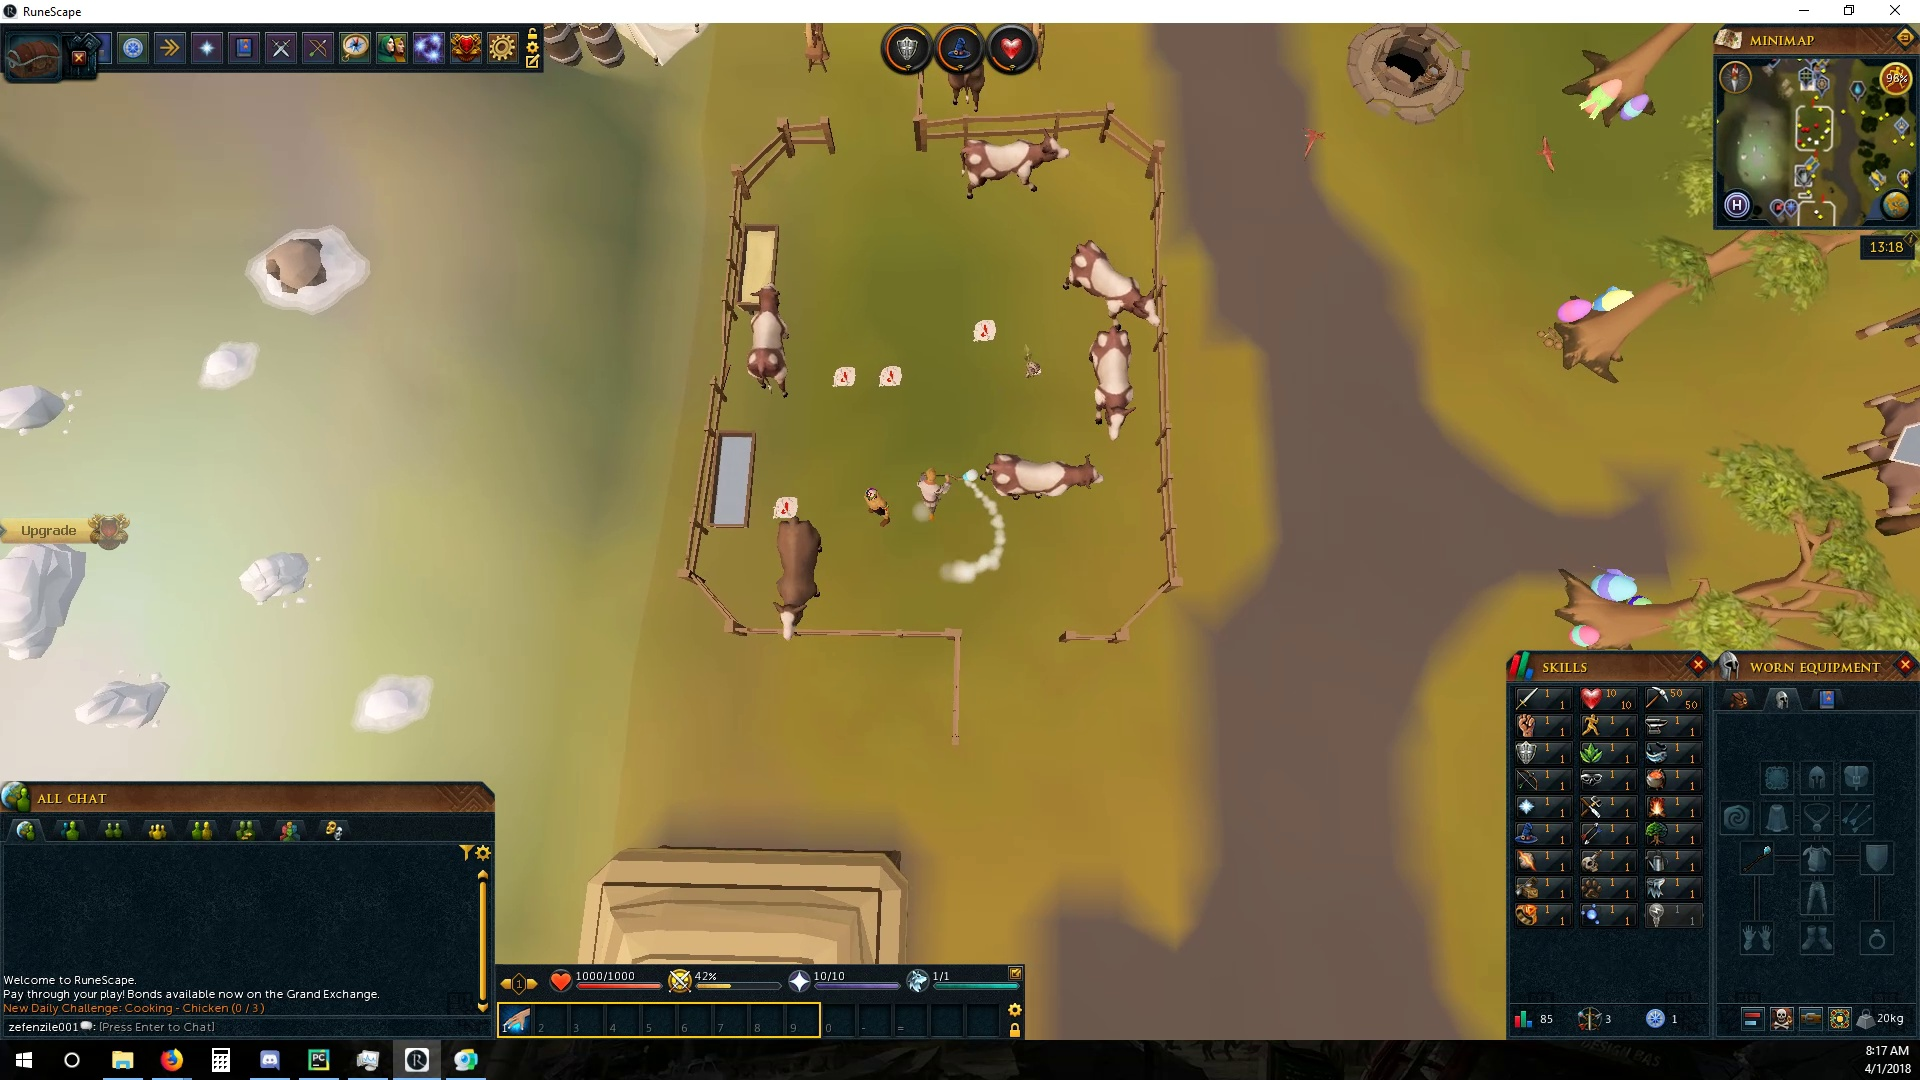cow: (1062, 240, 1166, 327), (956, 127, 1069, 200), (981, 448, 1110, 502), (770, 516, 823, 640), (1087, 323, 1137, 442), (749, 284, 794, 401)
cow_drop: (873, 360, 906, 390), (971, 316, 1001, 343), (831, 364, 856, 390), (770, 492, 800, 513)
